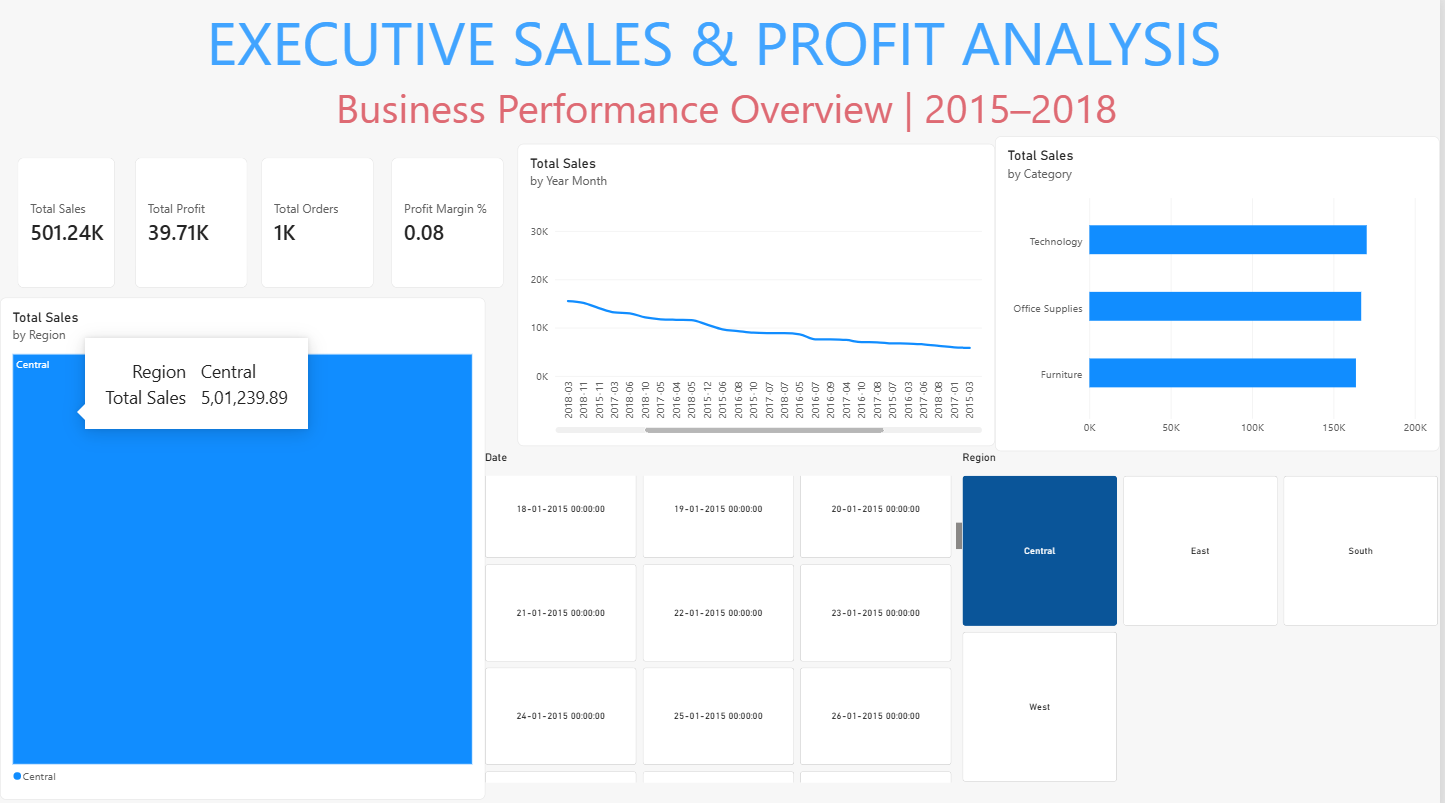

The dashboard page shown, as its layout file describes it:
{"tool":"powerbi","page":{"name":"Executive Overview","canvas":[1920,1080],"ordinal":0},"visuals":[{"type":"textbox","box":[96.7,0,1710.5,191.4],"z":0},{"type":"cardVisual","fields":{"Data":["Dim Customer.Total Sales"]},"box":[22.7,209.3,130.8,174.4],"z":1000},{"type":"cardVisual","fields":{"Data":["Dim Customer.Total Profit"]},"box":[179.7,209.3,150,174],"z":2000},{"type":"cardVisual","fields":{"Data":["Dim Customer.Total Orders"]},"box":[348.8,209.3,150,174],"z":3000},{"type":"cardVisual","fields":{"Data":["Dim Customer.Profit Margin %"]},"box":[521.5,209.3,150,174],"z":4000},{"type":"lineChart","fields":{"Category":["Dim Date.Year Month"],"Y":["Dim Customer.Total Sales"]},"box":[690.7,191.9,636.6,402.9],"z":5000},{"type":"treemap","fields":{"Group":["Fact Orders.Region"],"Values":["Dim Customer.Total Sales"]},"box":[0,395.9,647.1,669.8],"z":6000},{"type":"clusteredBarChart","fields":{"Category":["Fact Orders.Category"],"Y":["Dim Customer.Total Sales"]},"box":[1327.3,181.4,593,420.4],"z":7000},{"type":"advancedSlicerVisual","fields":{"Values":["Dim Date.Date"]},"box":[647.1,601.7,636.6,441.3],"z":8000},{"type":"advancedSlicerVisual","fields":{"Values":["Fact Orders.Region"]},"box":[1283.7,601.7,636.6,441.3],"z":9000}]}

Visuals, with their boxes in screenshot pixels (x1, y1, x2, y2), scaled from the page's 1920x1080 canvas onto the 1445x803 screenshot:
textbox: 73/0/1360/142
cardVisual - Dim Customer.Total Sales: 17/156/116/285
cardVisual - Dim Customer.Total Profit: 135/156/248/285
cardVisual - Dim Customer.Total Orders: 263/156/375/285
cardVisual - Dim Customer.Profit Margin %: 392/156/505/285
lineChart - Dim Date.Year Month x Dim Customer.Total Sales: 520/143/999/442
treemap - Fact Orders.Region x Dim Customer.Total Sales: 0/294/487/792
clusteredBarChart - Fact Orders.Category x Dim Customer.Total Sales: 999/135/1444/447
advancedSlicerVisual - Dim Date.Date: 487/447/966/775
advancedSlicerVisual - Fact Orders.Region: 966/447/1444/775
